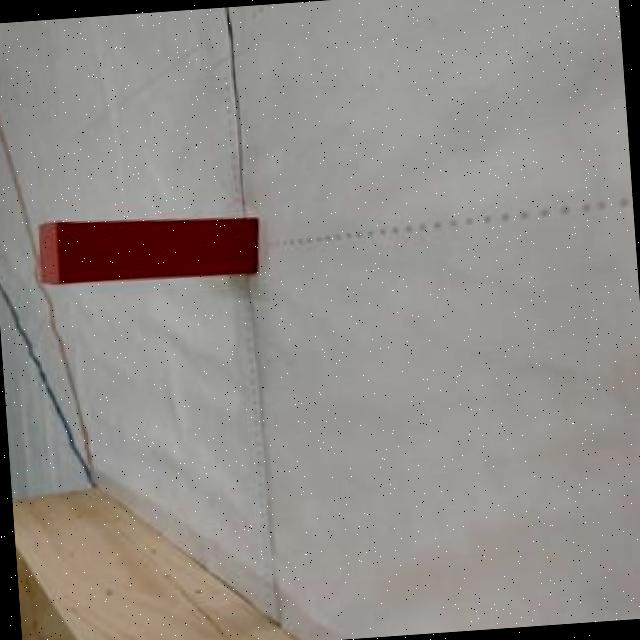redbox: (32, 208, 260, 286)
